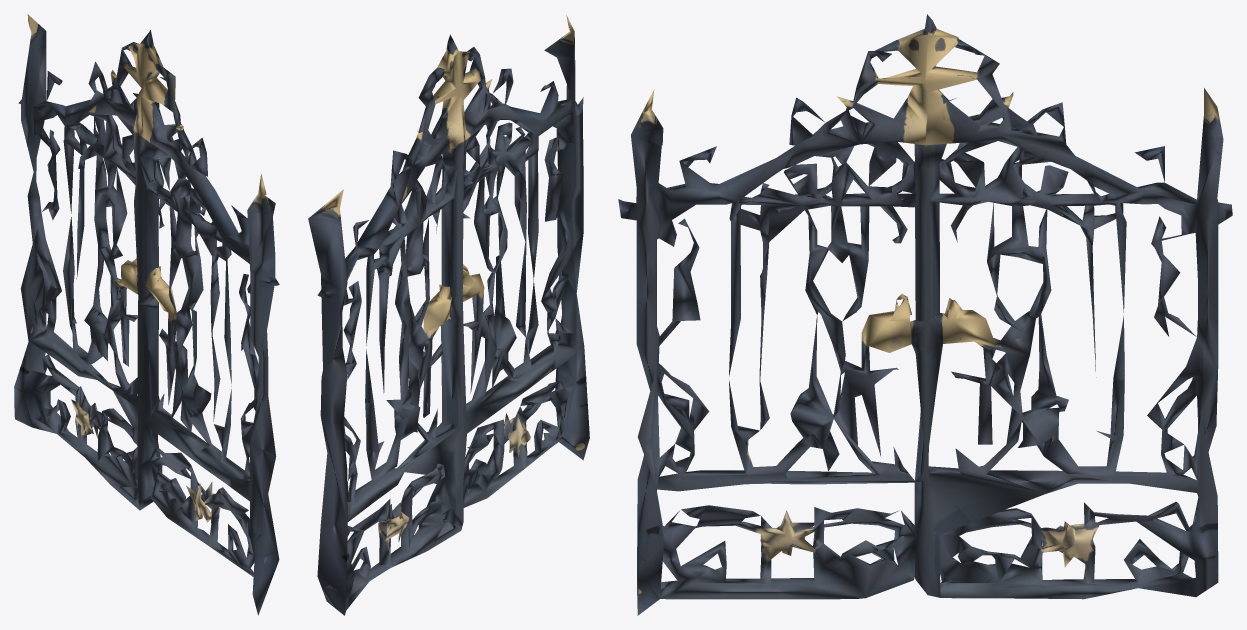
File: gate_ornate.glb
3 renders of one model, left to right at view 1: azimuth 30°, elevation 25°; view 2: azimuth 150°, elevation 25°; view 3: azimuth 270°, elevation 25°, orthographic. The views are drawn at different scales.
Visible parts, largest first — view 1: tripo_node_e7981f70-5a9f-4ab8-912b-1aa595d6a682; view 2: tripo_node_e7981f70-5a9f-4ab8-912b-1aa595d6a682; view 3: tripo_node_e7981f70-5a9f-4ab8-912b-1aa595d6a682.
Part boxes in pixels (<box>): tripo_node_e7981f70-5a9f-4ab8-912b-1aa595d6a682: <box>14,14,279,615</box>; tripo_node_e7981f70-5a9f-4ab8-912b-1aa595d6a682: <box>308,15,589,615</box>; tripo_node_e7981f70-5a9f-4ab8-912b-1aa595d6a682: <box>618,14,1232,615</box>.
Bounding box in the file's own units: 0.0728 × 0.9935 × 0.9095.
1 material, 1 textured.
